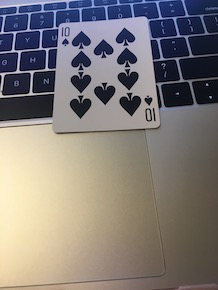TenOfSpades: (51, 12, 164, 135)
